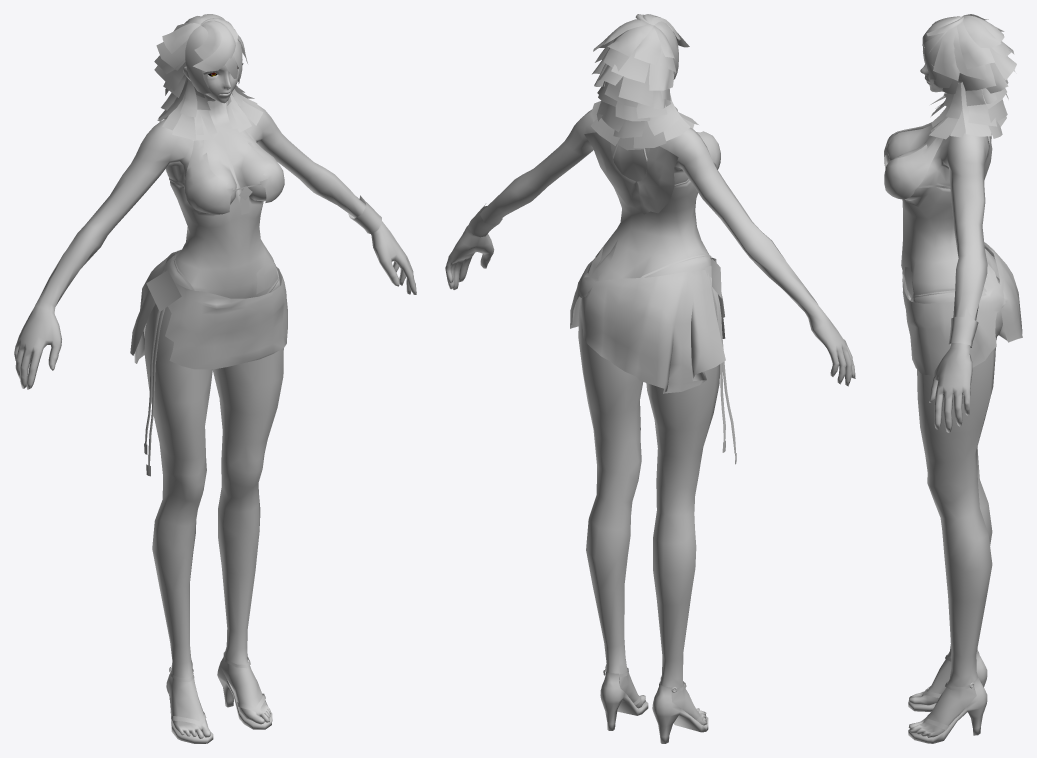
Rendered from FemaleGon v1 Broken Eyes.fbx.
The picture shows the model from 3 angles, left to right: view 1: azimuth 30°, elevation 25°; view 2: azimuth 150°, elevation 25°; view 3: azimuth 270°, elevation 25°; orthographic projection.
Visible parts, largest first — view 1: EXP.001, EXP.002, EXP.003; view 2: EXP.001, EXP.002; view 3: EXP.001, EXP.002.
Boxes of the visible parts, box(x1,y1,x2,y2) form: EXP.001: box(14, 100, 416, 743); EXP.002: box(154, 14, 263, 140); EXP.003: box(183, 62, 243, 103); EXP.001: box(445, 109, 855, 743); EXP.002: box(591, 14, 698, 150); EXP.001: box(884, 121, 1022, 743); EXP.002: box(922, 14, 1016, 139).
Size of the model in its own units: 306 by 521 by 93.21.
